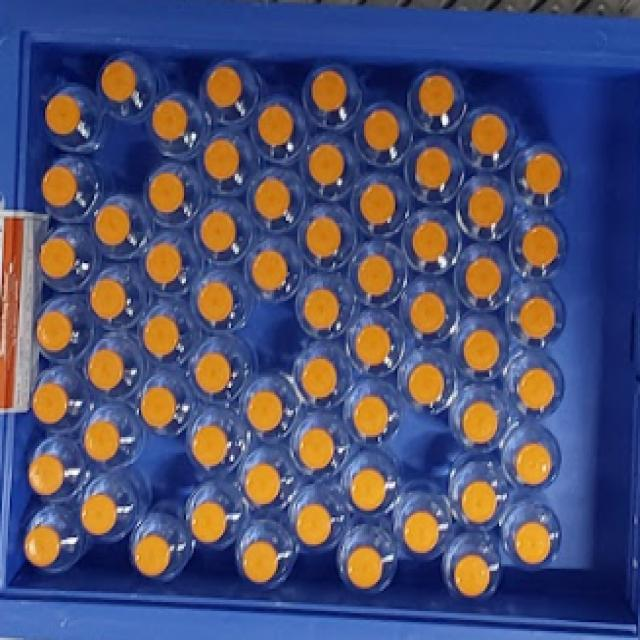vial: (461, 400, 499, 444), (192, 424, 229, 469), (462, 329, 500, 372), (151, 98, 189, 141), (461, 480, 498, 524), (254, 177, 291, 221), (346, 545, 382, 590), (200, 209, 236, 254), (246, 390, 284, 432), (142, 315, 180, 357), (90, 278, 128, 320), (515, 443, 552, 486), (518, 367, 555, 410), (242, 541, 279, 584), (191, 501, 228, 544), (134, 534, 171, 577), (352, 395, 389, 438), (408, 363, 445, 406), (519, 296, 556, 339), (88, 349, 125, 392), (145, 242, 182, 285), (41, 165, 78, 208), (311, 70, 348, 113), (454, 554, 490, 598), (515, 521, 551, 565), (350, 467, 386, 511), (81, 494, 118, 536), (32, 382, 69, 424), (301, 357, 338, 399), (251, 249, 288, 291), (525, 152, 562, 194), (471, 113, 508, 155), (245, 463, 281, 506), (299, 427, 335, 470), (410, 292, 446, 335), (355, 323, 391, 366), (465, 256, 501, 299), (419, 74, 455, 117), (364, 108, 400, 151), (258, 104, 294, 147), (204, 138, 240, 181), (39, 238, 76, 279), (94, 205, 131, 246), (412, 221, 449, 262), (522, 225, 559, 266), (468, 187, 505, 228), (25, 526, 61, 568), (140, 386, 176, 428), (304, 288, 340, 330), (195, 352, 231, 394), (36, 310, 72, 352), (149, 172, 185, 214), (198, 281, 234, 323), (305, 216, 341, 258), (360, 182, 396, 224), (415, 147, 451, 189), (206, 66, 242, 108), (296, 503, 331, 546), (101, 60, 136, 103), (84, 420, 120, 461), (358, 255, 394, 296), (309, 144, 345, 185), (45, 94, 81, 135), (404, 511, 439, 553), (29, 454, 64, 496)
